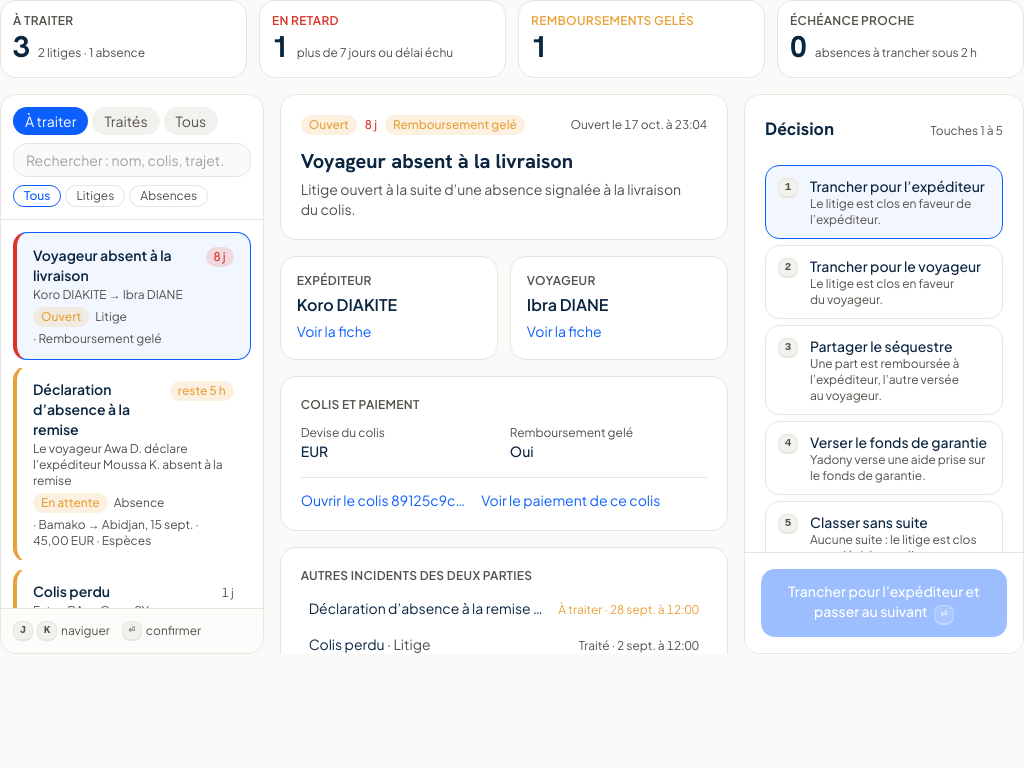
Scenario: pages/incidents › contexte (back #658) › un autre incident hors file (litige traité) : lu par identifiant et gardé à l’écran
Click the button with test id "incident-related-dispute:d9": (347, 644) [301,628,707,660]
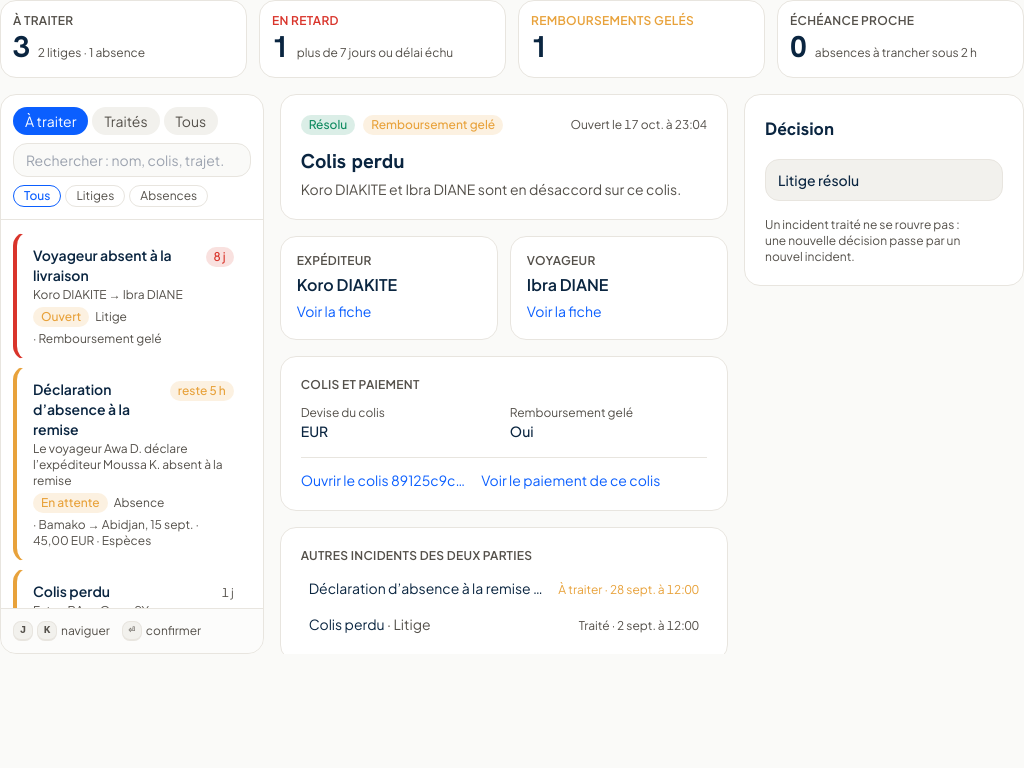
Expected: the text "Colis perdu" is shown, [33,581,110,601]
Expected: the button with test id "incident-decision-done" is shown, [765,159,1003,201]
